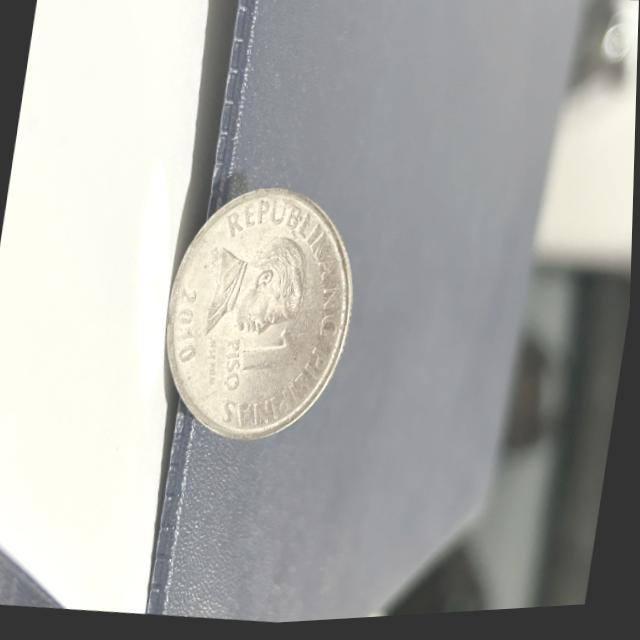1_Old_Front: (216, 319, 306, 406)
